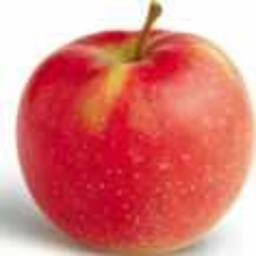apple: (15, 16, 254, 251)
